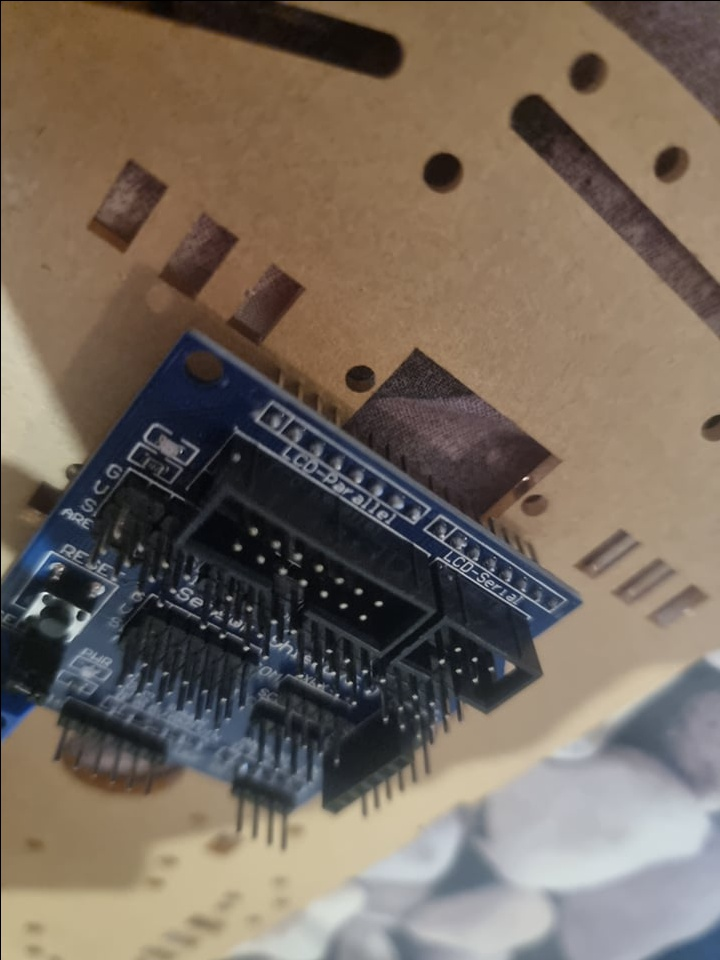5V EXPANSION: (0, 326, 581, 850)
